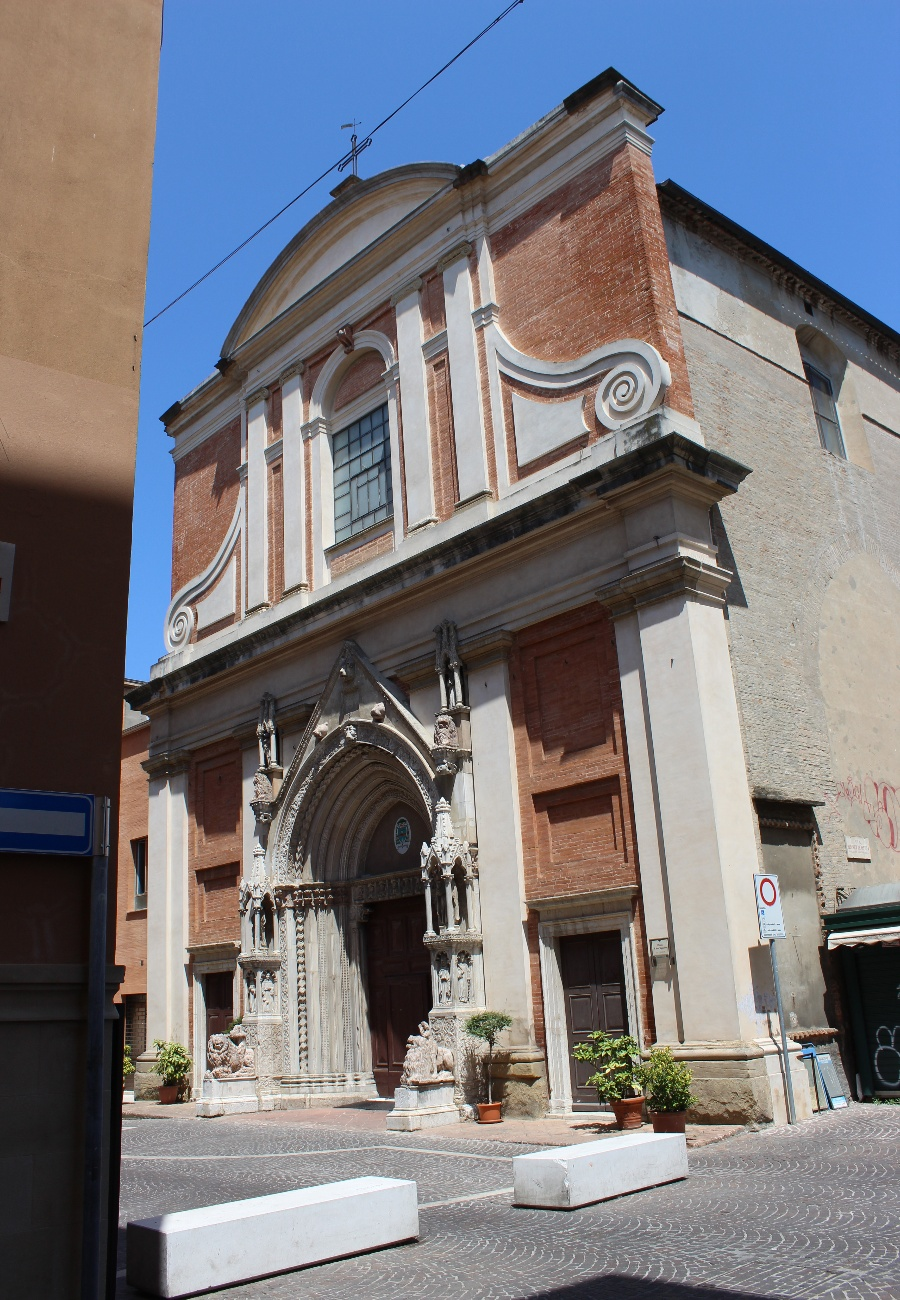Chiesa San Agostino: (160, 63, 778, 1131)
